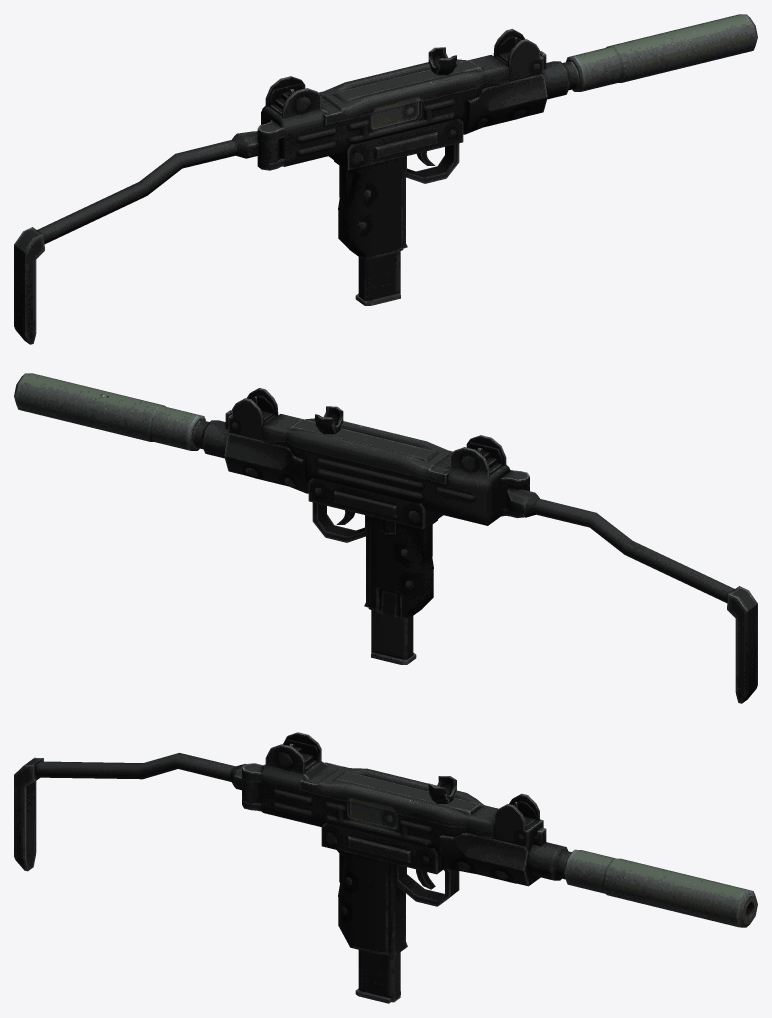
Rendered from tp_smg.glb.
3 renders of one model, top to bottom at view 1: azimuth 30°, elevation 25°; view 2: azimuth 150°, elevation 25°; view 3: azimuth 330°, elevation 25°, orthographic.
Parts seen in each view (by area): view 1: Main_Mesh, Stock_Mesh, Silencer_Mesh, Magazine_Mesh, EjectionCover_Mesh, Knob_Mesh; view 2: Main_Mesh, Silencer_Mesh, Stock_Mesh, Magazine_Mesh, Knob_Mesh; view 3: Main_Mesh, Silencer_Mesh, Stock_Mesh, Magazine_Mesh, EjectionCover_Mesh, Knob_Mesh.
Boxes of the visible parts, bbox=[...] form: Main_Mesh: bbox=[257, 29, 579, 259]; Stock_Mesh: bbox=[14, 131, 279, 344]; Silencer_Mesh: bbox=[566, 14, 757, 91]; Magazine_Mesh: bbox=[355, 251, 400, 305]; EjectionCover_Mesh: bbox=[372, 98, 419, 129]; Knob_Mesh: bbox=[428, 47, 456, 75]; Main_Mesh: bbox=[192, 388, 529, 618]; Silencer_Mesh: bbox=[14, 373, 205, 450]; Stock_Mesh: bbox=[506, 486, 757, 703]; Magazine_Mesh: bbox=[371, 610, 416, 664]; Knob_Mesh: bbox=[315, 406, 343, 434]; Main_Mesh: bbox=[242, 732, 571, 955]; Silencer_Mesh: bbox=[564, 849, 757, 927]; Stock_Mesh: bbox=[14, 753, 260, 871]; Magazine_Mesh: bbox=[355, 950, 400, 1003]; EjectionCover_Mesh: bbox=[349, 798, 397, 829]; Knob_Mesh: bbox=[428, 776, 456, 803].
Bounding box in the file's own units: 72.2 × 22.17 × 5.14.
1 material, 1 textured.
